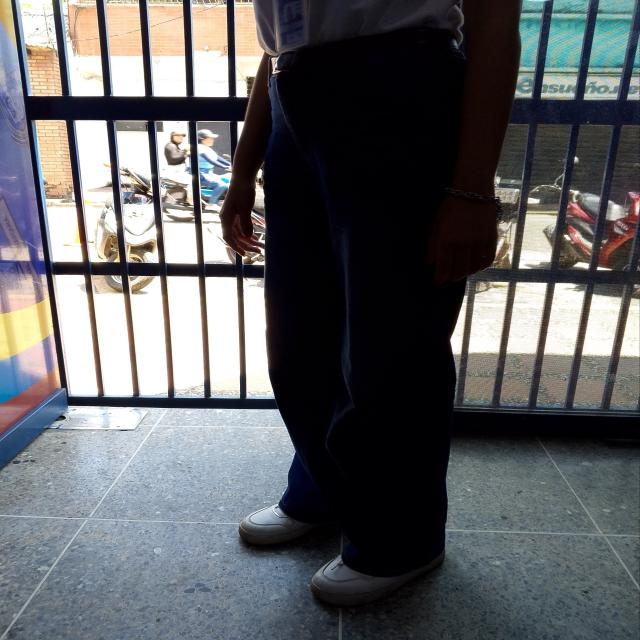carnet: (274, 0, 308, 52)
